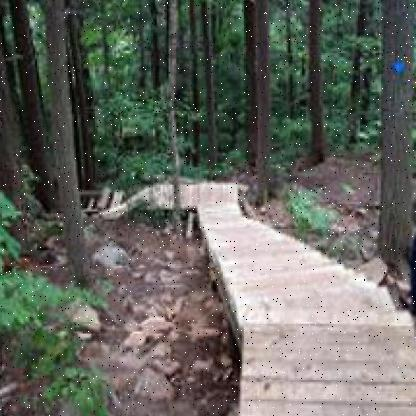stair_down: (230, 262, 416, 350)
